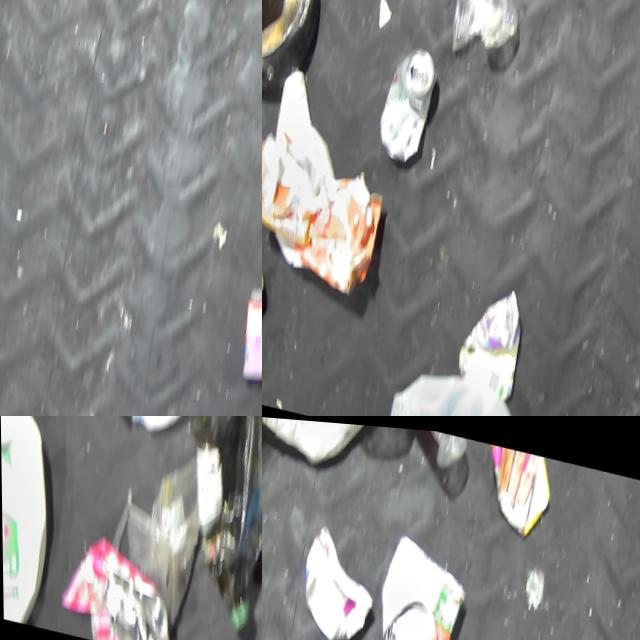can: (366, 522, 474, 640), (373, 40, 443, 176)
milk_jug: (381, 354, 531, 416)
non_white_jug: (0, 416, 69, 627)
